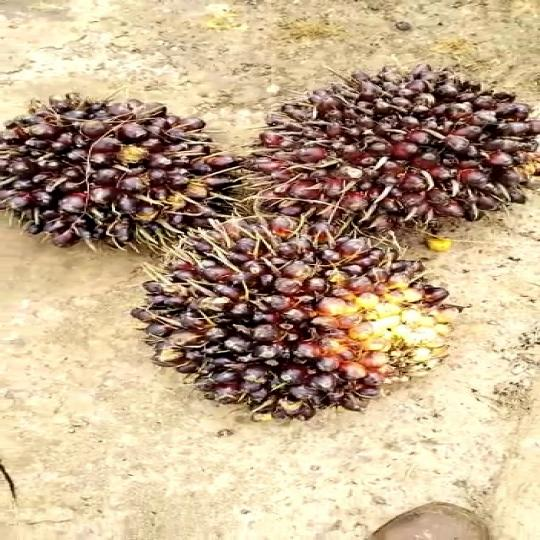mentah: (136, 212, 491, 412), (227, 71, 540, 233), (10, 90, 236, 255)
